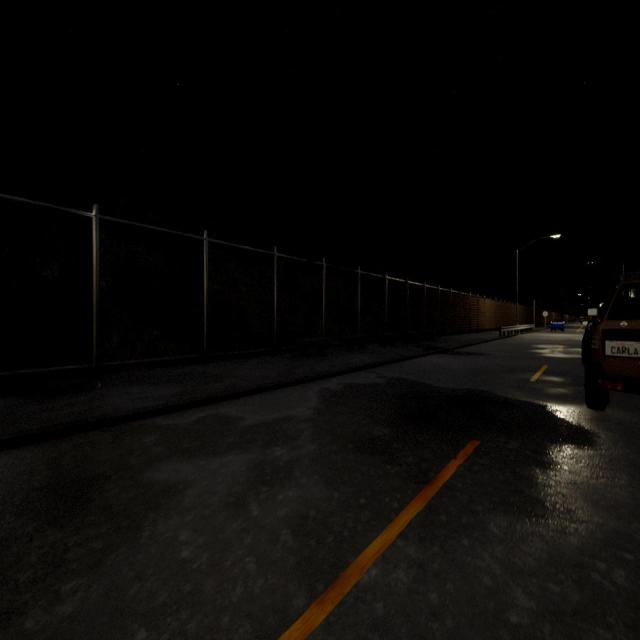Traffic_Signs: (542, 310, 548, 317)
Vehicle: (582, 272, 640, 410), (550, 318, 565, 332)
